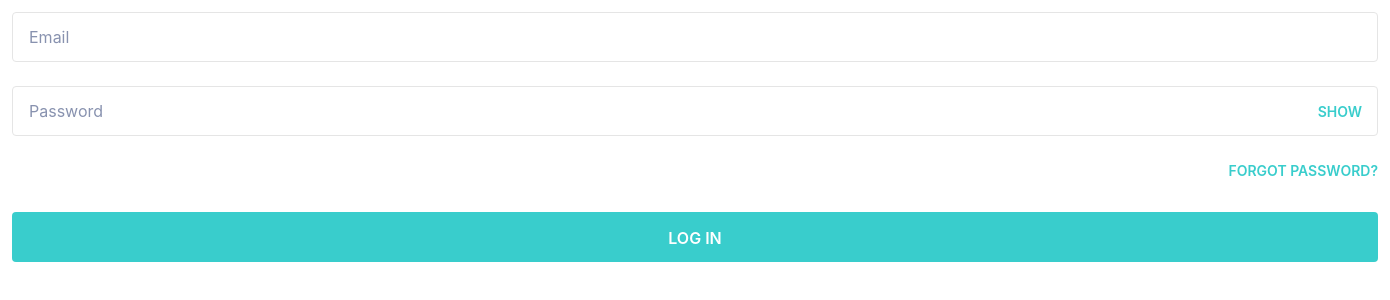
Test: LoginForm › shows error for invalid email
This screenshot has width=1390, height=300.
In the field with test id "email-input": (695, 37) [12,12,1378,62], type "invalid"
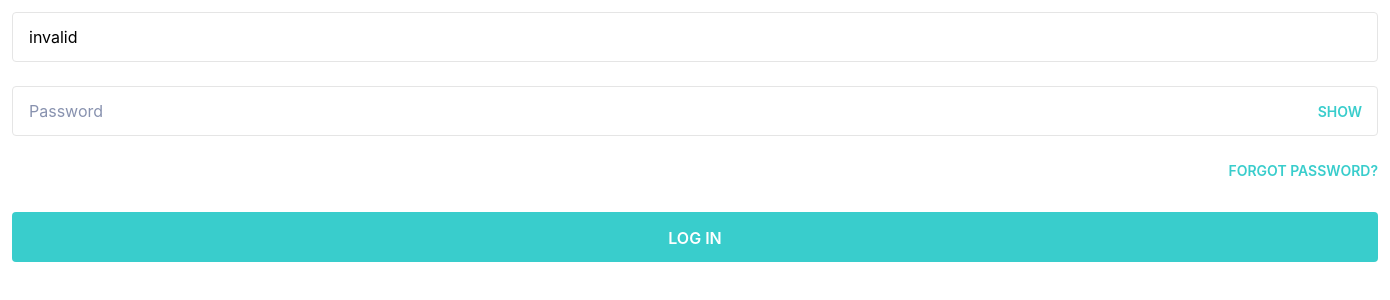
In the password field with test id "password-input": (695, 111) [12,86,1378,136], type "12345678"
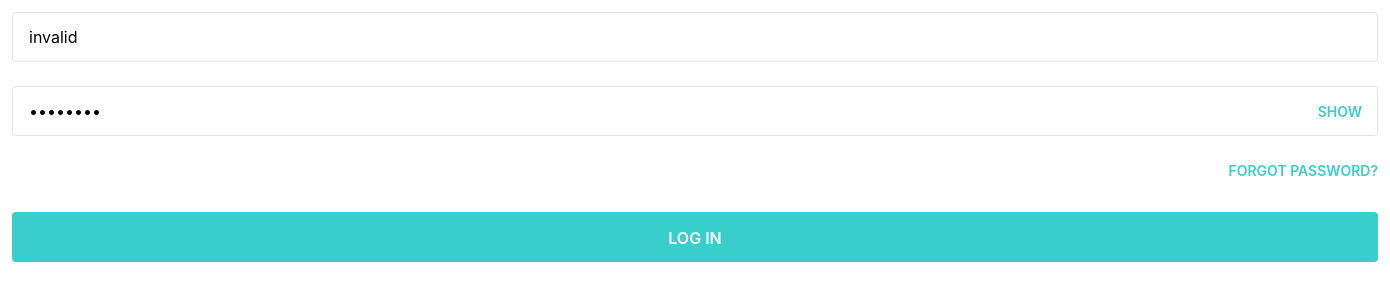
Click the button with test id "login-button": (695, 237) [12,212,1378,262]
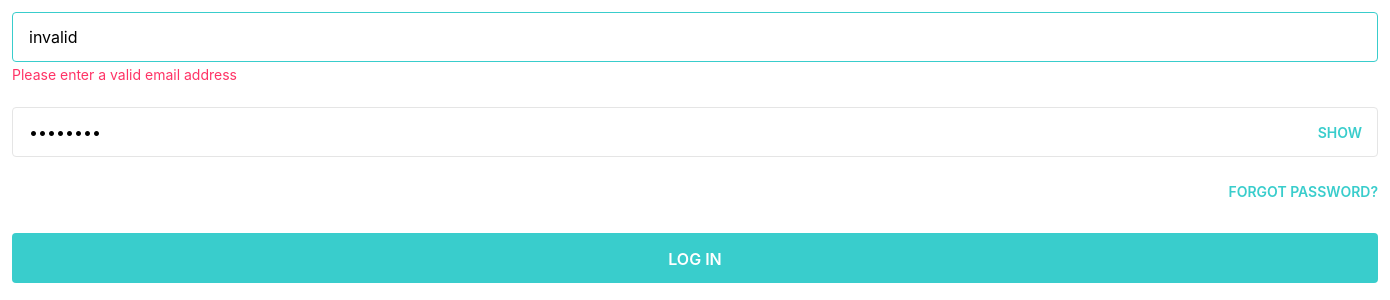
Expected: the text with test id "email-error" reads "Please enter a valid email address", [12,66,237,83]
